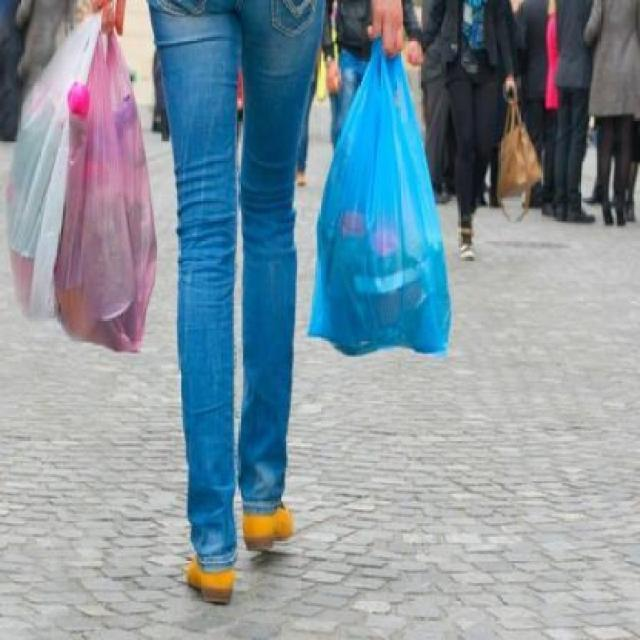Plastic_Bag: (4, 16, 162, 358), (304, 33, 454, 364)
